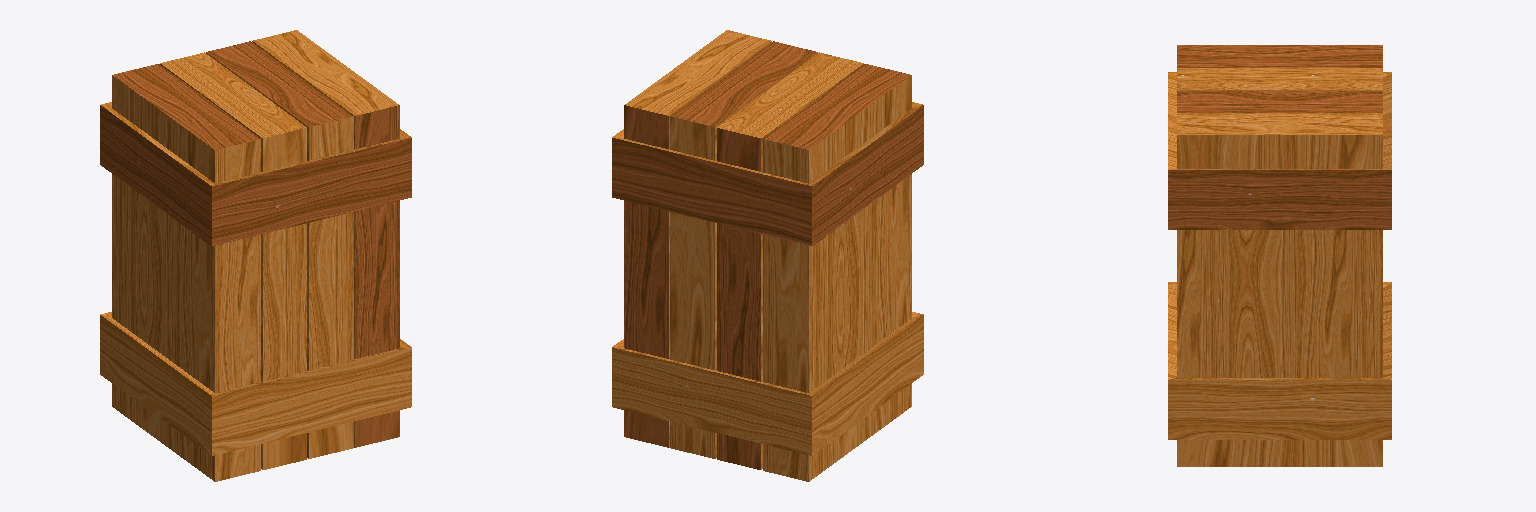
3 views of the same model, side by side, from view 1: azimuth 30°, elevation 25°; view 2: azimuth 150°, elevation 25°; view 3: azimuth 270°, elevation 25° (orthographic).
Parts seen in each view (by area): view 1: Crate_Cube.001; view 2: Crate_Cube.001; view 3: Crate_Cube.001.
Part boxes in pixels (x1,y1,x2,y2): Crate_Cube.001: (100, 30, 411, 481); Crate_Cube.001: (612, 30, 923, 481); Crate_Cube.001: (1168, 45, 1391, 466).
Bounding box in the file's own units: 1.55 × 2.46 × 1.5.
2 materials, 2 textured.